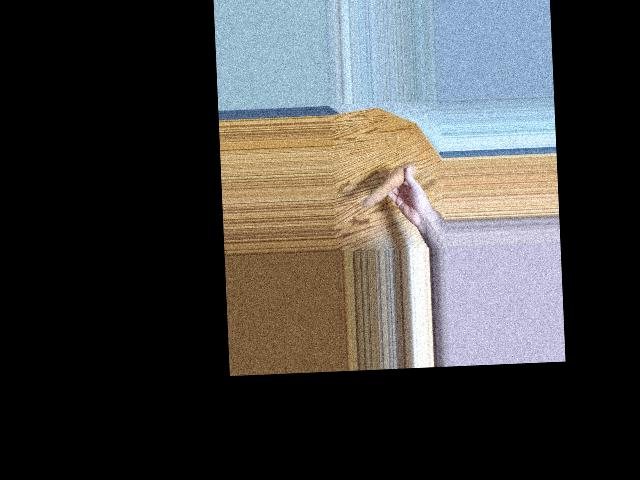sweet_potato: (361, 165, 417, 210)
